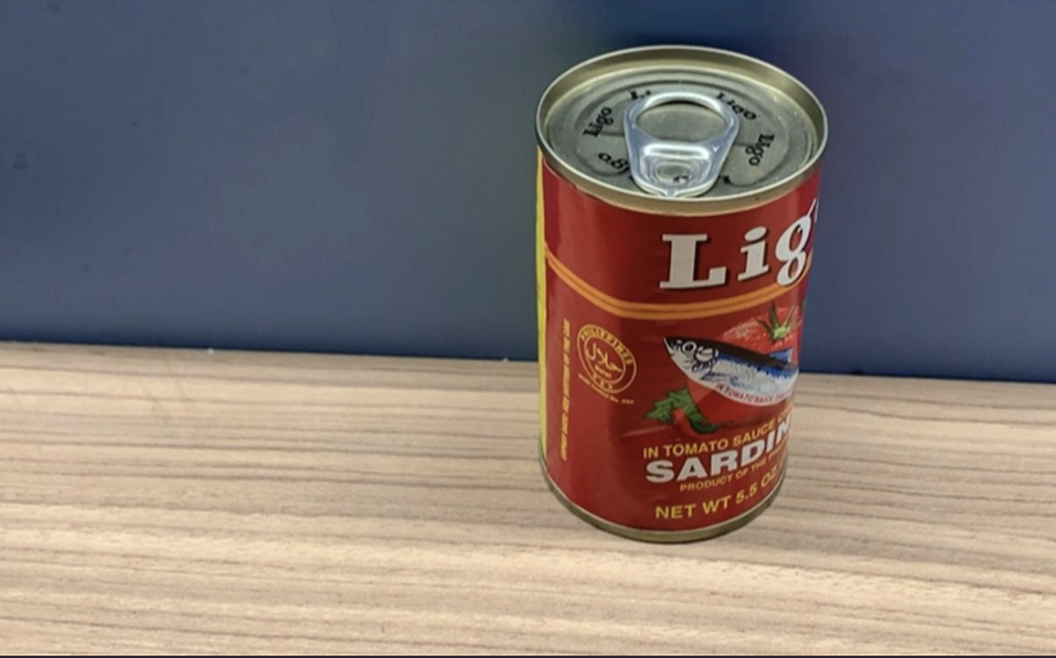sardines_100g-199g: (556, 88, 789, 510)
